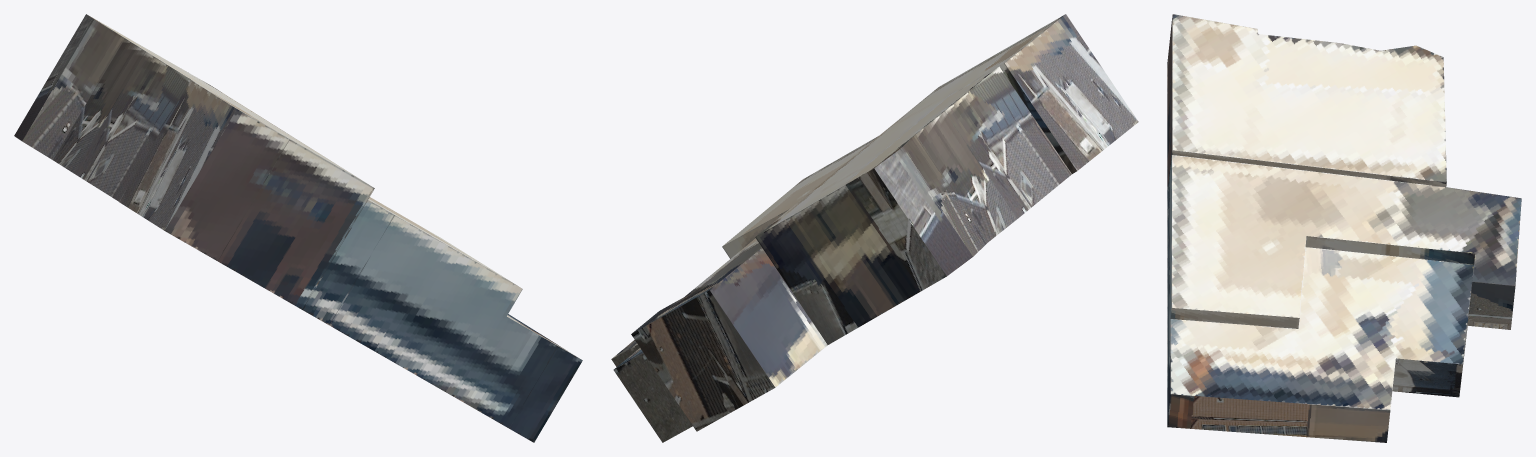
3 views of the same model, side by side, from view 1: azimuth 30°, elevation 25°; view 2: azimuth 150°, elevation 25°; view 3: azimuth 270°, elevation 25° (orthographic). The views are drawn at different scales.
Parts seen in each view (by area): view 1: BAG_0599100000760489 (×5); view 2: BAG_0599100000760489 (×5); view 3: BAG_0599100000760489 (×5).
Boxes of the visible parts, bbox=[...] form: BAG_0599100000760489 (×5): bbox=[14, 14, 582, 442]; BAG_0599100000760489 (×5): bbox=[611, 14, 1138, 442]; BAG_0599100000760489 (×5): bbox=[1167, 14, 1521, 442].
Bounding box in the file's own units: 26.87 × 25.56 × 25.73.
Materials: 5 (5 with a texture image).
